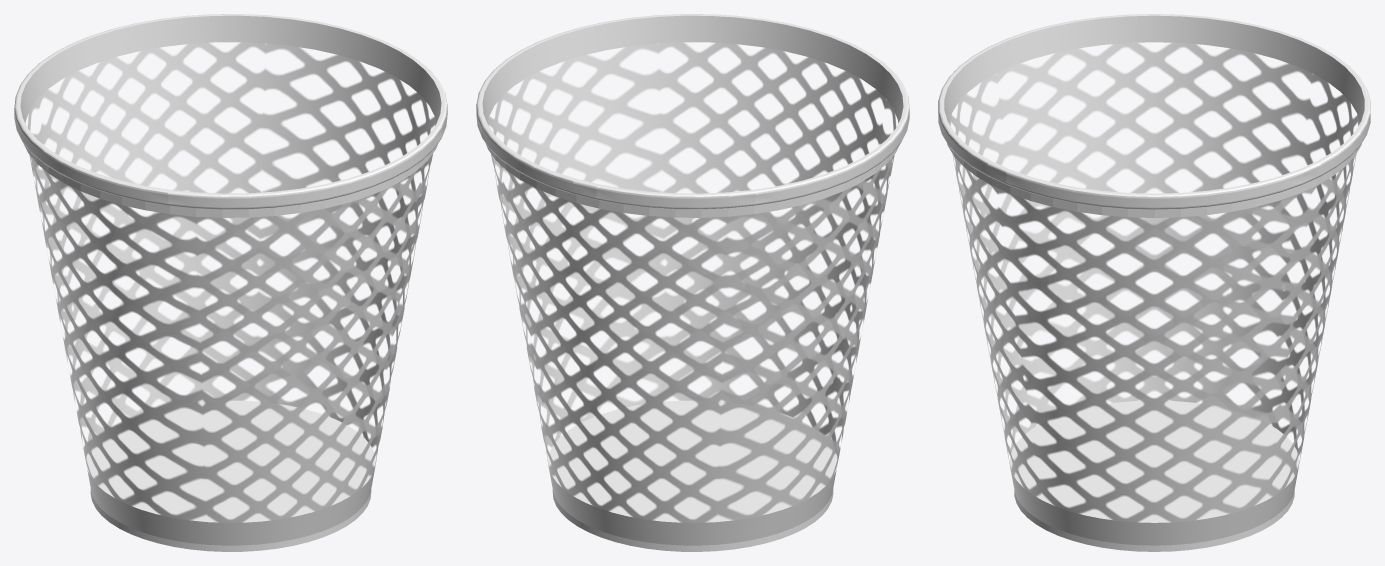
Rendered from dustbin.glb.
3 renders of one model, left to right at view 1: azimuth 30°, elevation 25°; view 2: azimuth 150°, elevation 25°; view 3: azimuth 270°, elevation 25°, orthographic.
Parts seen in each view (by area): view 1: Cone001_Material #2_0, Cone001_Material #1_0; view 2: Cone001_Material #2_0, Cone001_Material #1_0; view 3: Cone001_Material #2_0, Cone001_Material #1_0.
Boxes of the visible parts, <box> form: Cone001_Material #2_0: <box>27,42,436,522</box>; Cone001_Material #1_0: <box>14,14,447,551</box>; Cone001_Material #2_0: <box>487,42,896,522</box>; Cone001_Material #1_0: <box>476,14,909,551</box>; Cone001_Material #2_0: <box>949,42,1359,522</box>; Cone001_Material #1_0: <box>938,14,1370,551</box>.
Size of the model in its own units: 0.4627 by 0.4572 by 0.4618.
2 materials, 1 textured.
